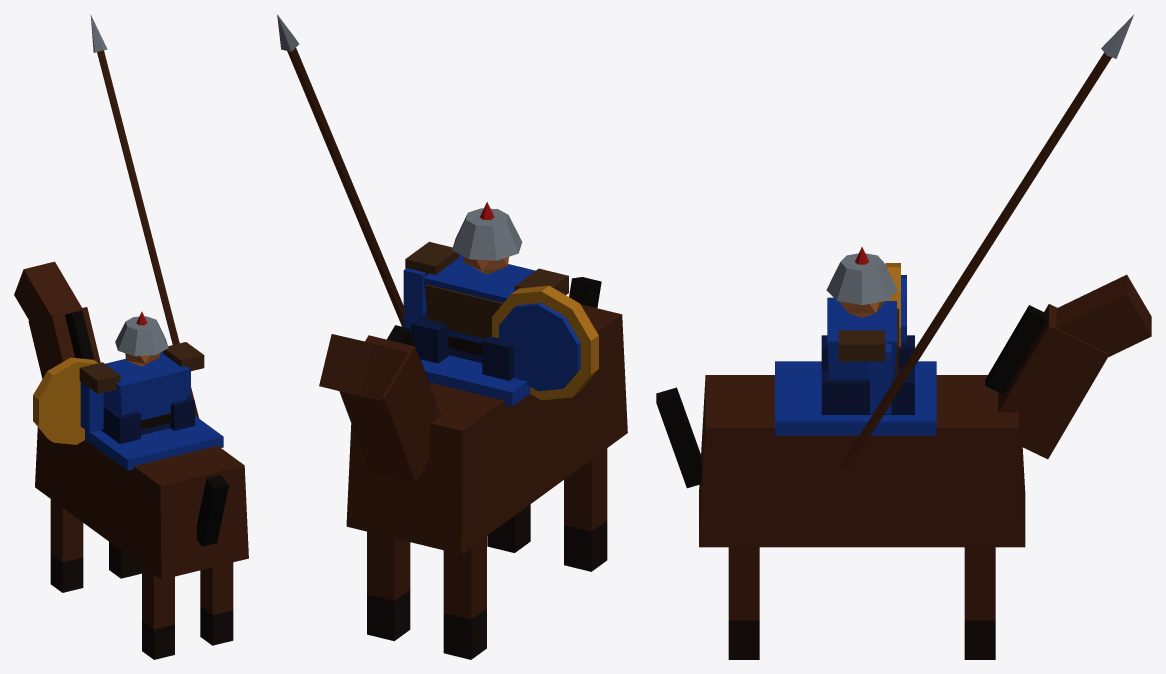
The model's file is unit_cavalry.glb.
The picture shows the model from 3 angles, left to right: view 1: azimuth 30°, elevation 25°; view 2: azimuth 150°, elevation 25°; view 3: azimuth 270°, elevation 25°; orthographic projection. The views are drawn at different scales.
Visible parts, largest first — view 1: UNIT_cavalry_ally; view 2: UNIT_cavalry_ally; view 3: UNIT_cavalry_ally.
Part boxes in pixels (x1,y1,x2,y2): UNIT_cavalry_ally: [14, 14, 248, 659]; UNIT_cavalry_ally: [277, 14, 627, 659]; UNIT_cavalry_ally: [656, 15, 1151, 659].
Size of the model in its own units: 0.7411 by 2.33 by 1.6.
